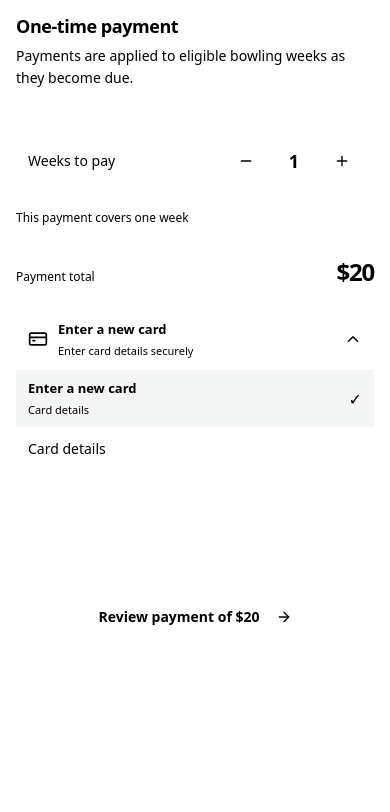
Test case: RotatingShareCreditCard › shows the exact one-time quote and preserves server-authoritative application guidance in review
The width and height of the screenshot is (390, 812).
Check: the heading "One-time payment" is shown, box [16,14,178,38]
Check: the text "$20" is shown, box [336,254,374,290]
Click the button "Review payment of $20". click: (195, 617)
box: [16,597,374,637]
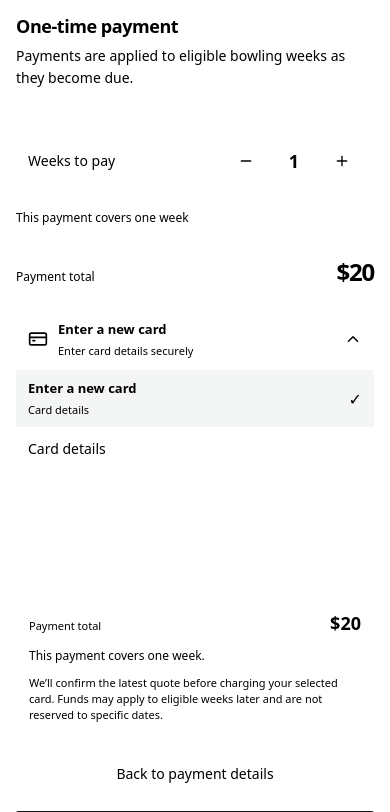
Check: the text "Funds may apply to eligible weeks later and are not reserved to specific dates" is shown, box [29,675,338,722]
